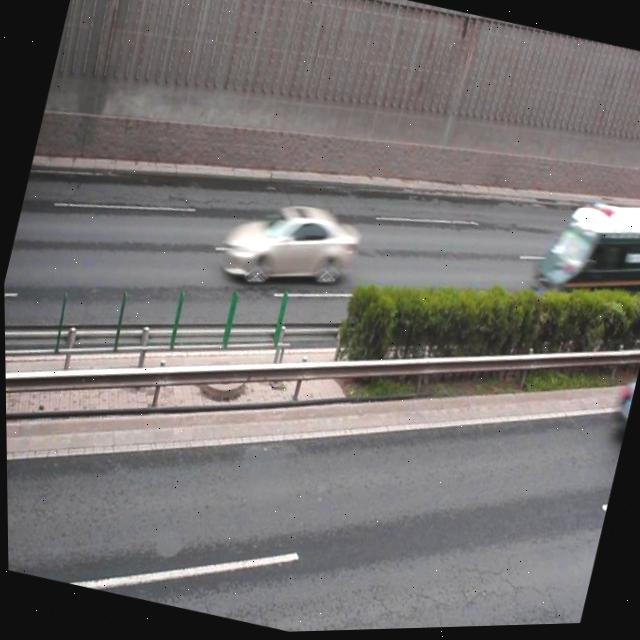car: (215, 191, 361, 304), (608, 364, 640, 441)
truck: (527, 184, 640, 329)
